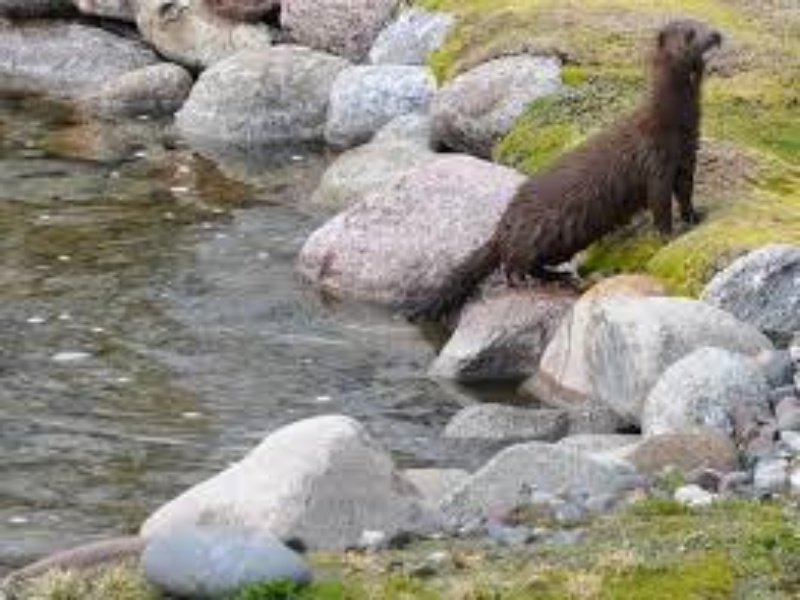minkish: (410, 18, 719, 335)
